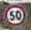limite 50: (3, 4, 27, 26)
